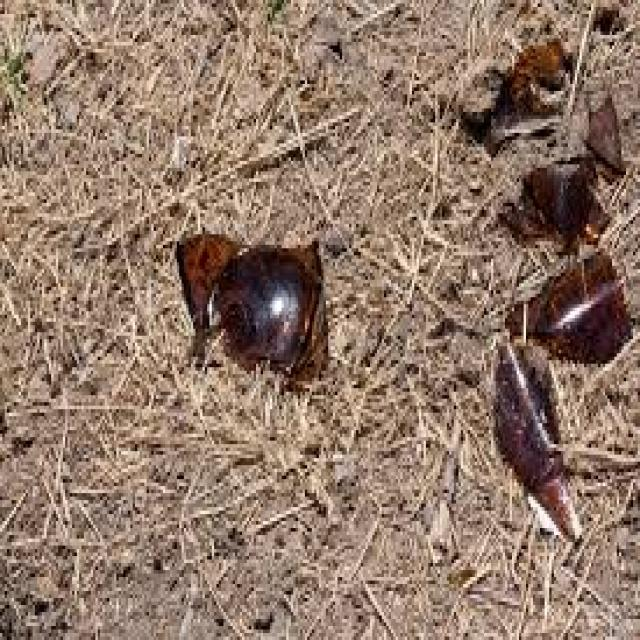glass: (172, 227, 328, 378), (491, 332, 580, 549), (505, 245, 631, 360), (454, 38, 577, 154), (498, 154, 607, 245), (584, 94, 624, 175), (591, 7, 628, 49)
